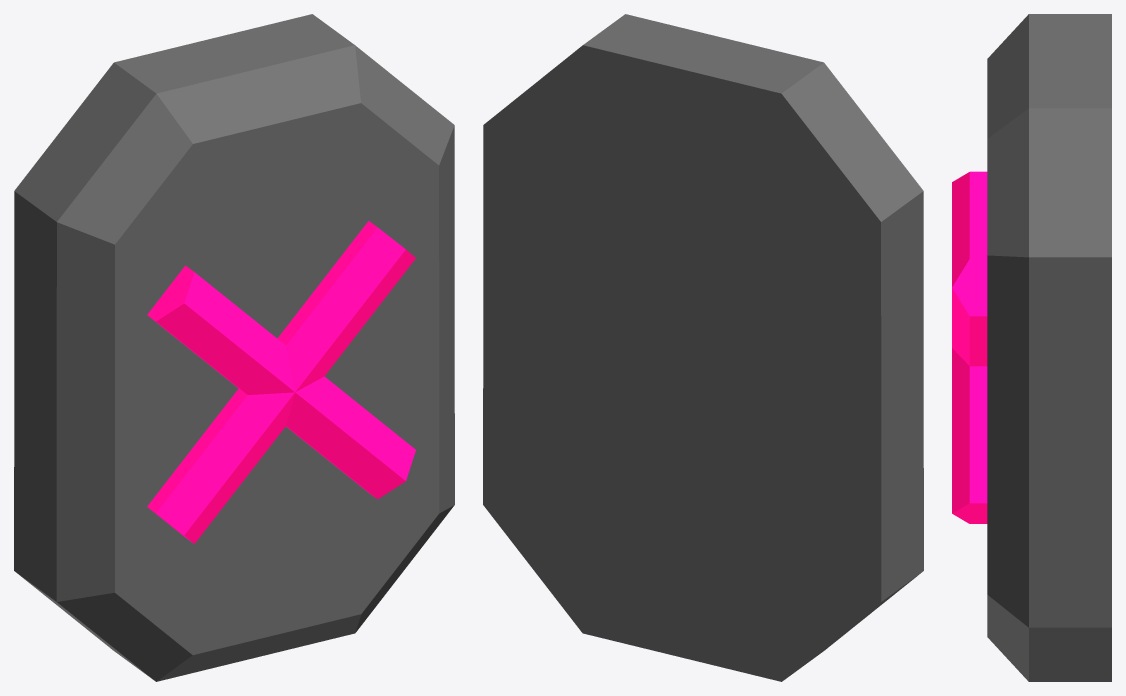
The model's file is Cross Key.glb.
3 views of the same model, side by side, from view 1: azimuth 30°, elevation 25°; view 2: azimuth 150°, elevation 25°; view 3: azimuth 270°, elevation 25° (orthographic). The views are drawn at different scales.
Parts seen in each view (by area): view 1: Oblisk Key Cross; view 2: Oblisk Key Cross; view 3: Oblisk Key Cross.
Part boxes in pixels (x1=…): Oblisk Key Cross: x1=14, y1=14, x2=454, y2=681; Oblisk Key Cross: x1=483, y1=14, x2=923, y2=681; Oblisk Key Cross: x1=952, y1=14, x2=1111, y2=681.
Size of the model in its own units: 0.5399 by 0.7622 by 0.1925.
